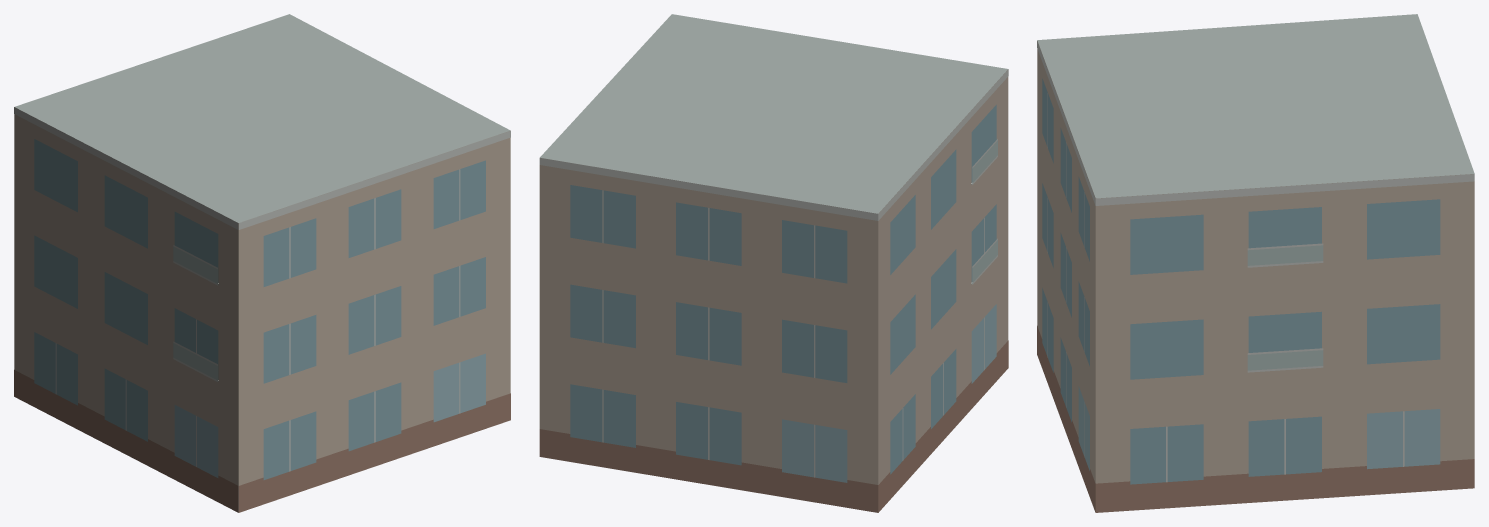
Rendered from survey-upis-33038352.glb.
3 views of the same model, side by side, from view 1: azimuth 30°, elevation 25°; view 2: azimuth 150°, elevation 25°; view 3: azimuth 270°, elevation 25° (orthographic). The views are drawn at different scales.
Visible parts, largest first — view 1: survey-upis-33038352.tmp; view 2: survey-upis-33038352.tmp; view 3: survey-upis-33038352.tmp.
Part boxes in pixels (box(x1,y1,x2,y2)): survey-upis-33038352.tmp: box(14, 14, 510, 512); survey-upis-33038352.tmp: box(539, 14, 1008, 512); survey-upis-33038352.tmp: box(1037, 14, 1474, 512).
Size of the model in its own units: 12.72 by 10.1 by 12.75.
